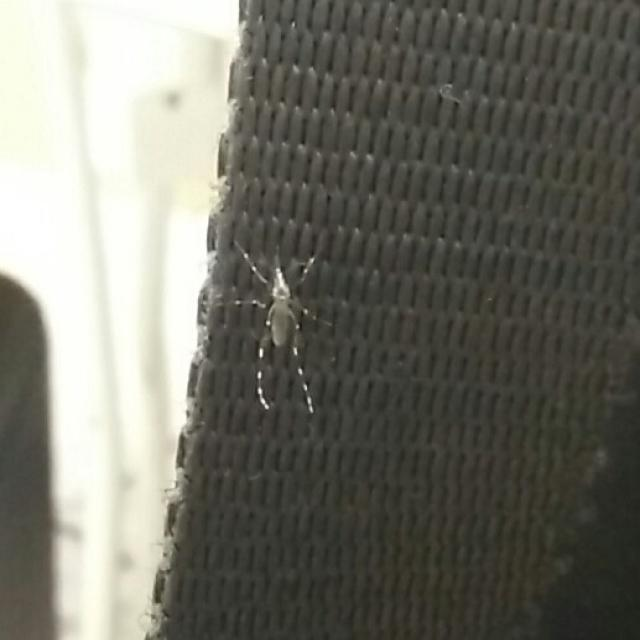albopictus: (210, 229, 346, 410)
